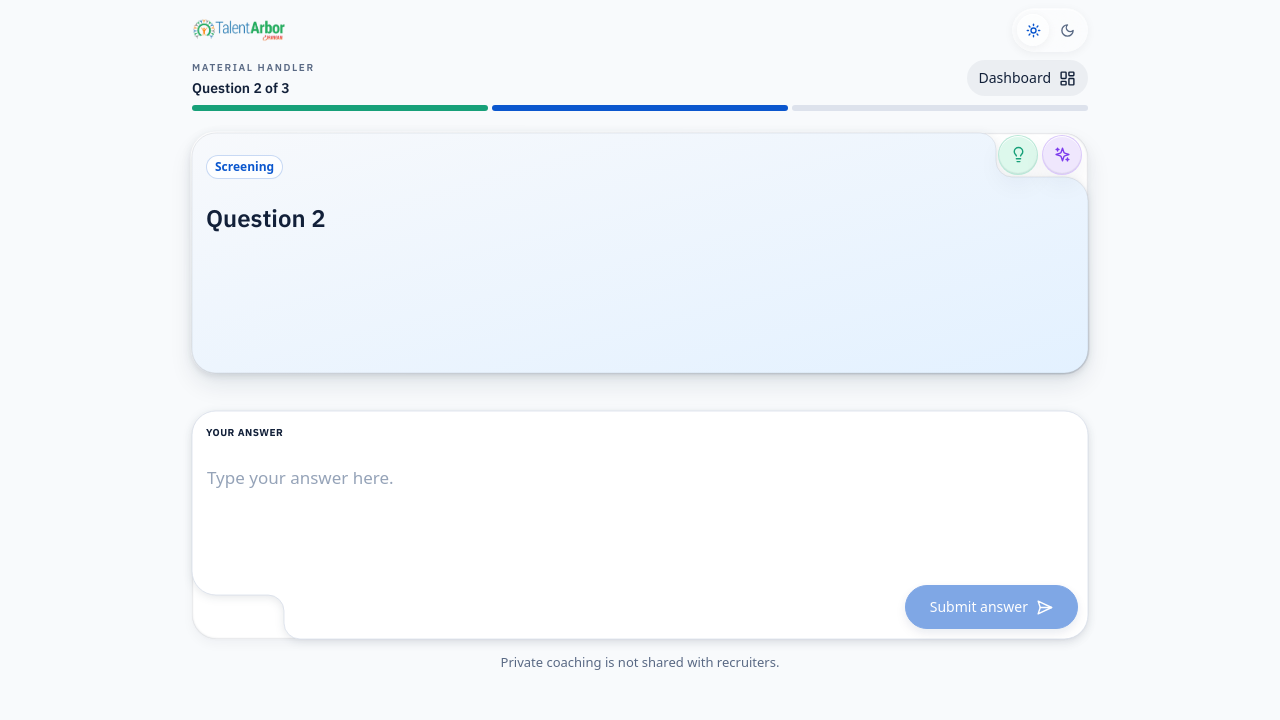
it: SharedLivePracticeShell › loads current-question hints automatically and hides assistance after submission
Step 1. Click the button named "Hints" → (1018, 155), box [998,135,1038,175]
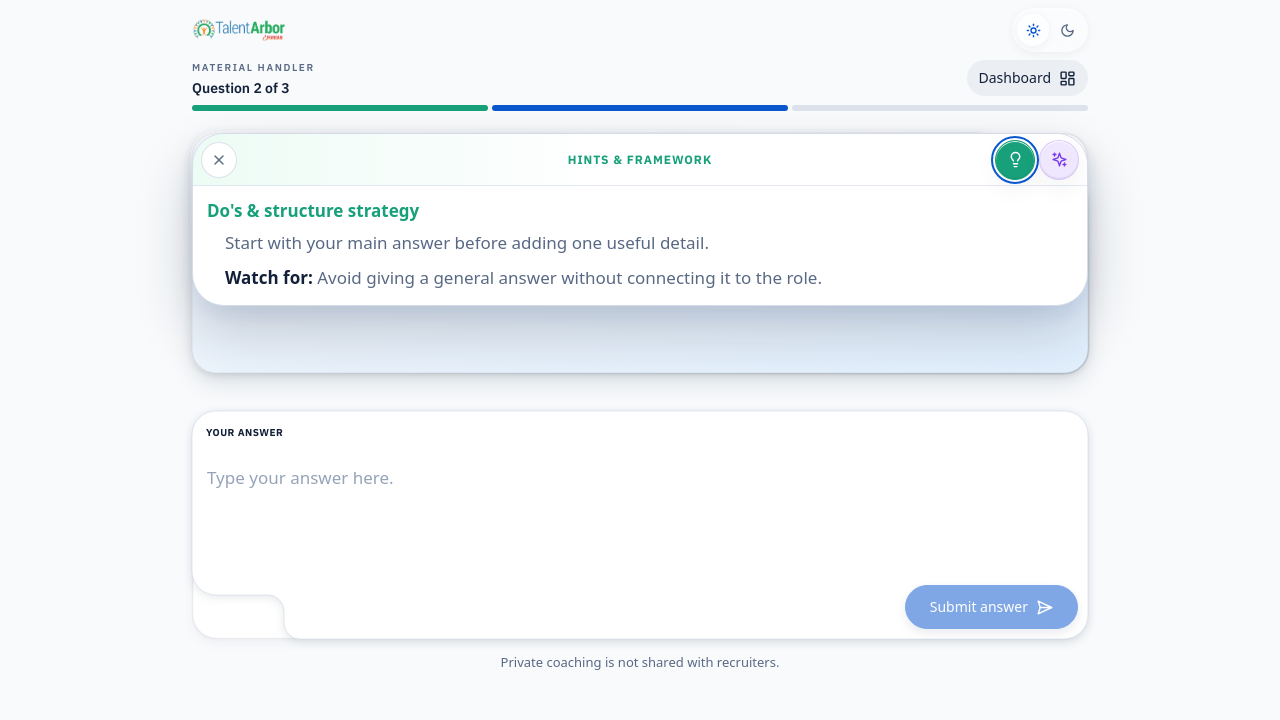
Now the dialog "Hints & framework" shows "Start with your main answer before adding one useful detail.", box [225,231,709,254]
